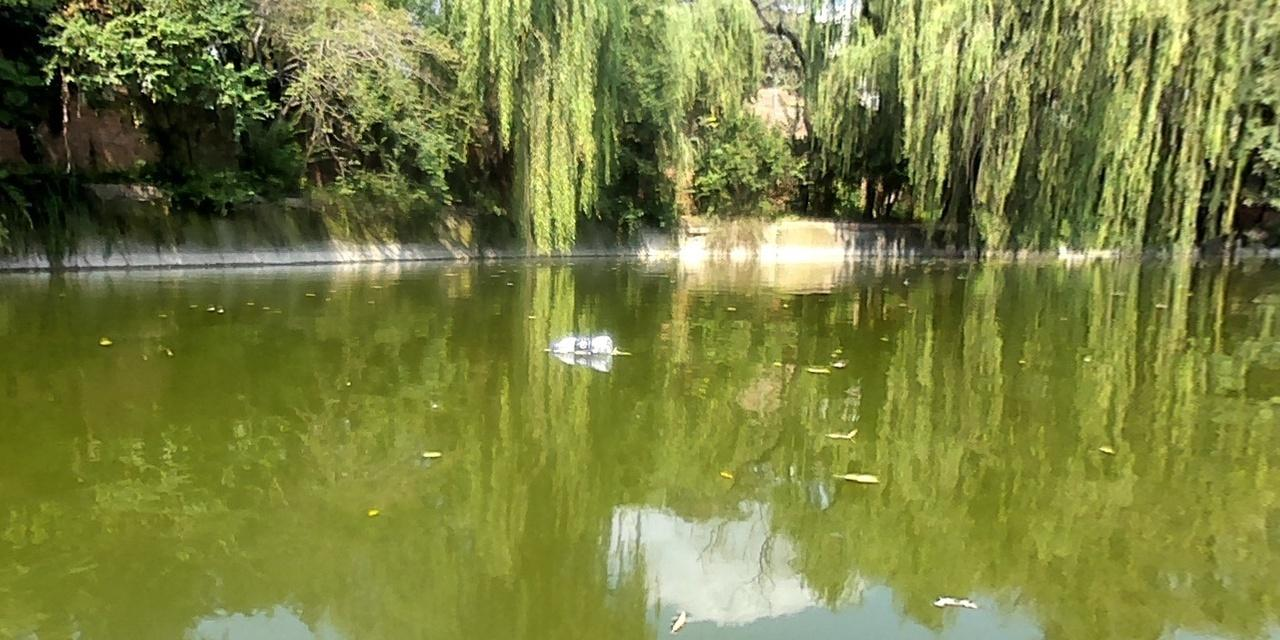bottle: (549, 334, 615, 356)
